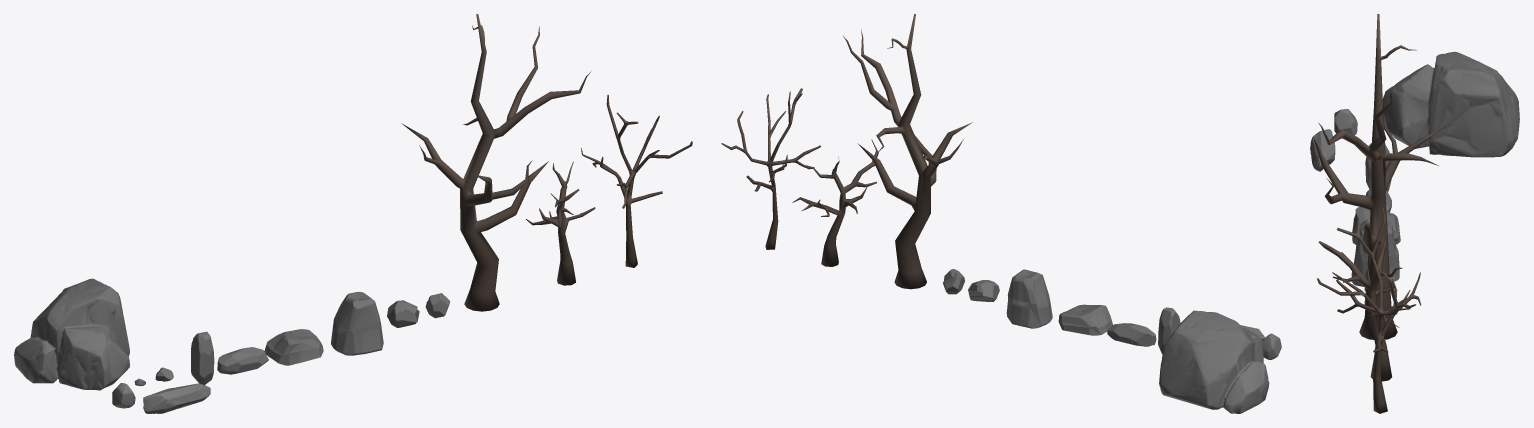
The model's file is OutisideBlocks.glb.
3 renders of one model, left to right at view 1: azimuth 30°, elevation 25°; view 2: azimuth 150°, elevation 25°; view 3: azimuth 270°, elevation 25°, orthographic. The views are drawn at different scales.
Parts seen in each view (by area): view 1: rock_d, Tree0, Rock.002, Tree, Tree.001, Rock.003, rock4, rock.001, rock, Rock.001; view 2: rock_d, Tree0, Rock.002, Tree, Tree.001, Rock.003, rock, rock.001, Rock.001; view 3: rock_d, Tree0, Tree, Tree.001, Rock.002, rock4, Rock.003, rock3, rock.001.
Part boxes in pixels (box(x1,y1,x2,y2)): rock_d: box(14, 278, 129, 390); Tree0: box(401, 14, 591, 311); Rock.002: box(331, 291, 383, 355); Tree: box(581, 94, 692, 267); Tree.001: box(526, 161, 595, 285); Rock.003: box(264, 329, 323, 365); rock4: box(143, 383, 210, 413); rock.001: box(191, 331, 214, 384); rock: box(217, 347, 268, 374); Rock.001: box(387, 300, 419, 327); rock_d: box(1159, 310, 1269, 413); Tree0: box(843, 14, 972, 289); Rock.002: box(1006, 269, 1052, 328); Tree: box(721, 88, 820, 249); Tree.001: box(792, 139, 878, 266); Rock.003: box(1058, 304, 1112, 335); rock: box(1107, 323, 1156, 346); rock.001: box(1158, 307, 1180, 354); Rock.001: box(968, 280, 999, 301); rock_d: box(1382, 51, 1519, 157); Tree0: box(1313, 14, 1449, 339); Tree: box(1317, 208, 1421, 413); Tree.001: box(1318, 241, 1410, 381); Rock.002: box(1351, 219, 1399, 286); rock4: box(1310, 129, 1335, 171); Rock.003: box(1352, 207, 1400, 244); rock3: box(1334, 109, 1357, 135); rock.001: box(1365, 143, 1391, 191).
Size of the model in its own units: 55.09 by 26.28 by 15.22.
1 material, 1 textured.
